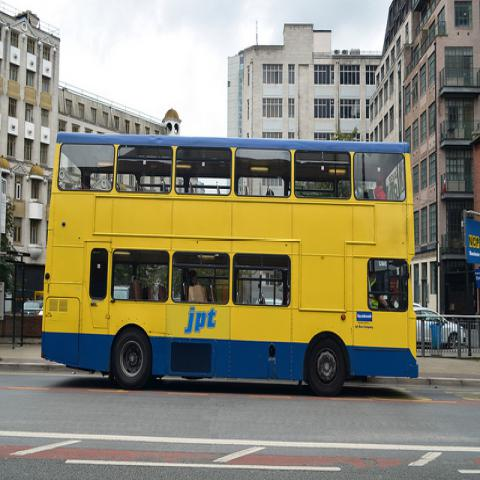bus: (46, 130, 426, 390)
car: (414, 308, 467, 350), (20, 302, 43, 315), (413, 302, 428, 310)
